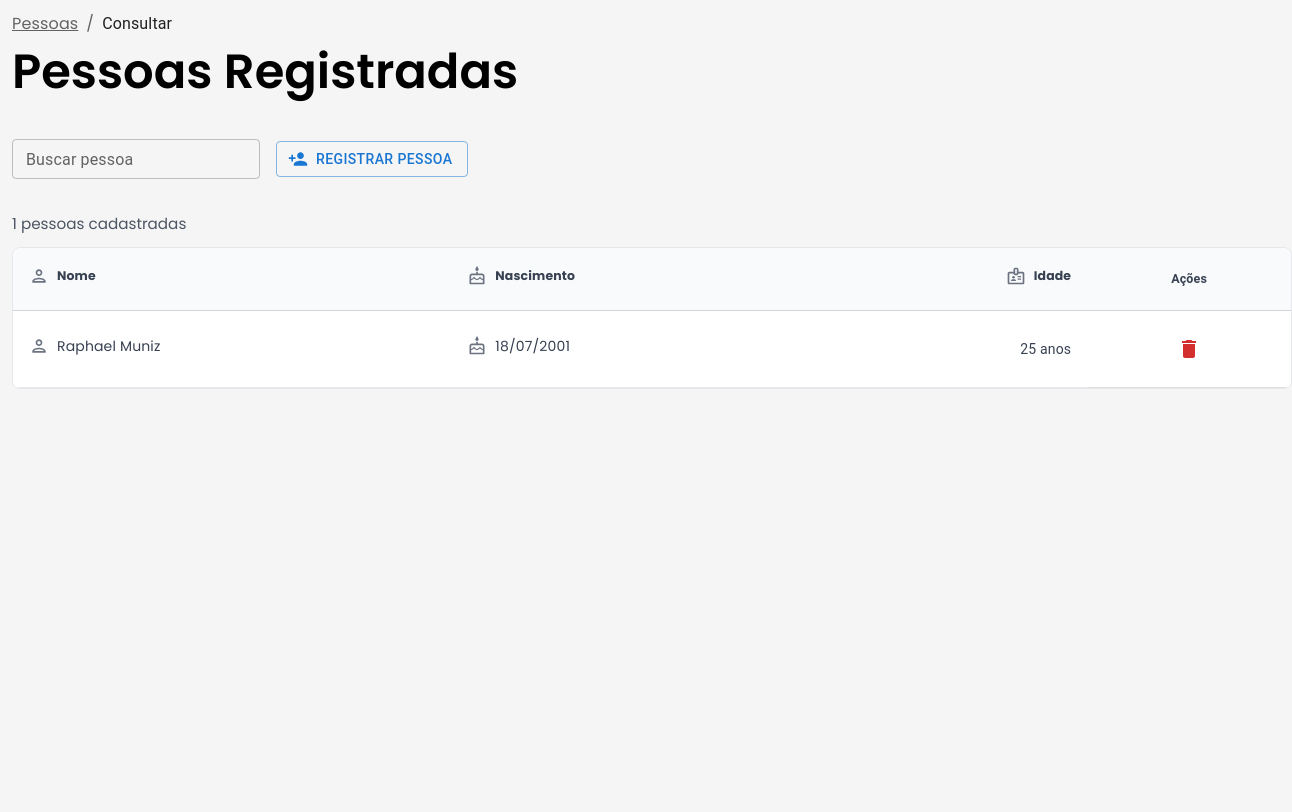
it: PeopleConsultPage › confirma e exclui pessoa pela API
This screenshot has width=1292, height=812.
Check: the text "Raphael Muniz" is shown, box [57, 336, 160, 356]
Click the button named "Excluir" at (1189, 349), box [1167, 327, 1211, 371]
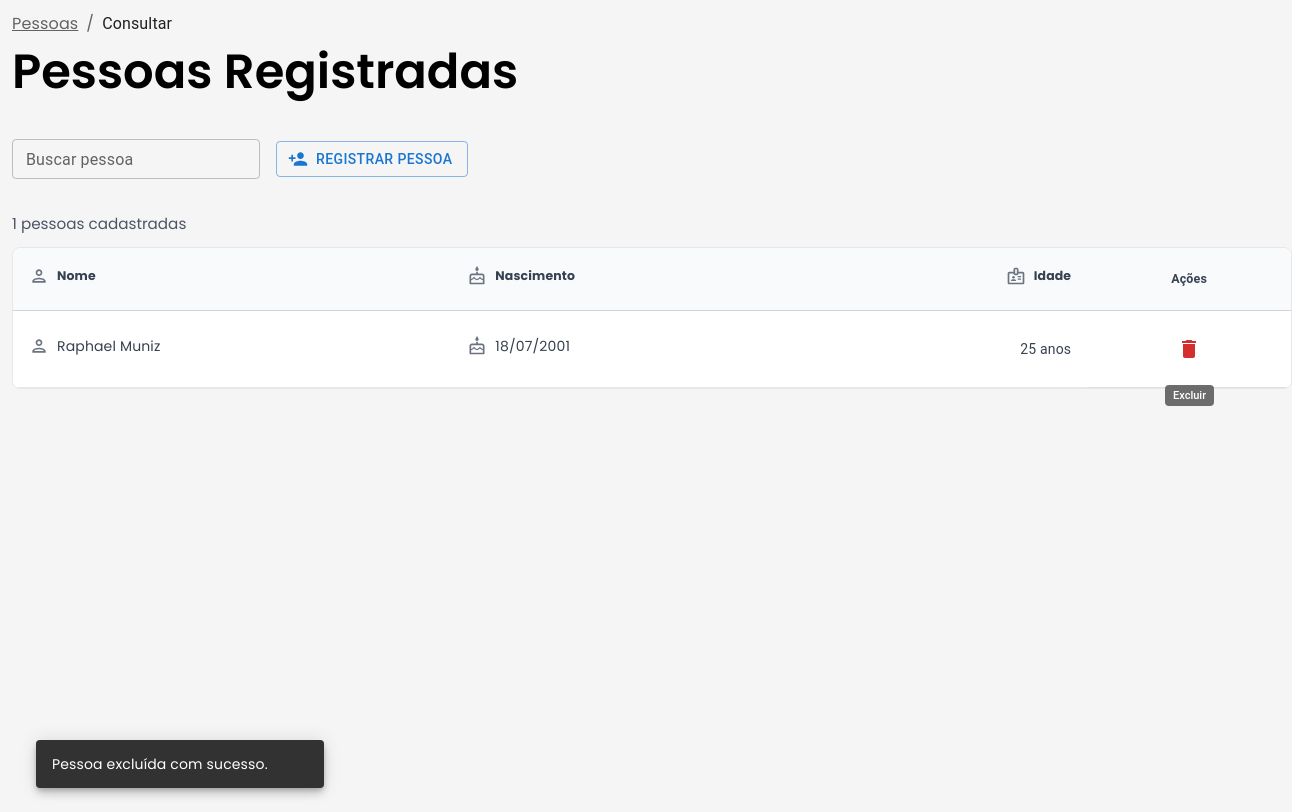
Check: the text "Pessoa excluída com sucesso." is shown, box [52, 754, 268, 774]
